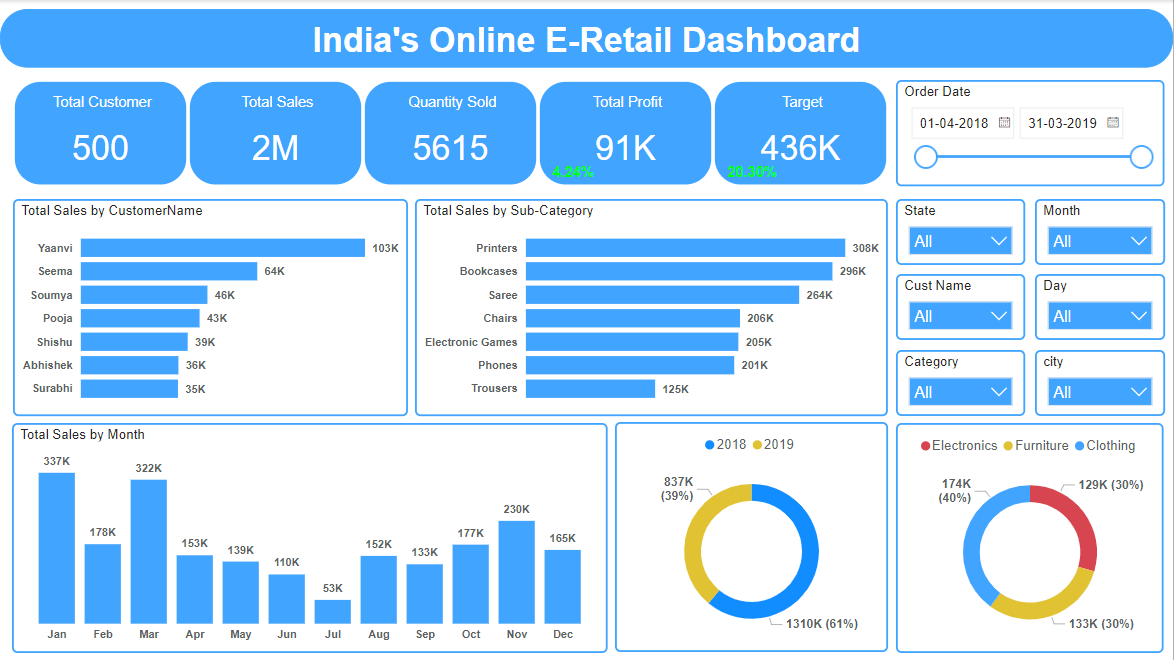

The dashboard page shown, as its layout file describes it:
{"tool":"powerbi","page":{"name":"Page 1","canvas":[1280,720],"ordinal":0},"visuals":[{"type":"card","title":"Total Customer","fields":{"Values":["CountNonNull(List of Orders.Order ID)"]},"box":[14.2,87.3,191,115.7],"z":0},{"type":"card","title":"Total Sales","fields":{"Values":["Measures Table.Total Sales"]},"box":[205.1,87.3,191,115.7],"z":1000},{"type":"card","title":"Total Profit","fields":{"Values":["Measures Table.Total Profit"]},"box":[587.1,87.3,191,115.7],"z":2000},{"type":"card","title":"Target","fields":{"Values":["Measures Table.Target"]},"box":[778,87.3,191,115.7],"z":3000},{"type":"card","title":"Quantity Sold","fields":{"Values":["Measures Table.Total Quantity Sold"]},"box":[396.1,87.3,191,115.7],"z":4000},{"type":"textbox","box":[0,9.8,1280,64.4],"z":5000},{"type":"card","fields":{"Values":["Measures Table.Taget %"]},"box":[778,172.4,85.1,33.8],"z":6000},{"type":"card","fields":{"Values":["Measures Table.Profit %"]},"box":[587.1,175.7,76.4,27.3],"z":7000},{"type":"slicer","title":"Day","fields":{"Values":["Calendar Table.Day"]},"box":[1129,299.4,141.9,72.3],"z":8000},{"type":"slicer","title":"Month","fields":{"Values":["Calendar Table.Month"]},"box":[1129,216.8,141.9,72.3],"z":8001},{"type":"slicer","title":"State","fields":{"Values":["List of Orders.State"]},"box":[978.1,216.8,140.6,72.3],"z":8002},{"type":"slicer","title":"city","fields":{"Values":["List of Orders.City"]},"box":[1129,381.9,141.9,72.3],"z":8003},{"type":"slicer","title":"Order Date","fields":{"Values":["Calendar Table.Order Date"]},"box":[978.1,87.7,292.9,116.1],"z":8004},{"type":"slicer","title":"Category","fields":{"Values":["Sales target.Category"]},"box":[978.1,381.9,140.6,72.3],"z":8005},{"type":"slicer","title":"Cust Name","fields":{"Values":["List of Orders.CustomerName"]},"box":[978.1,299.4,140.6,72.3],"z":8006},{"type":"donutChart","fields":{"Y":["Measures Table.Electronics","Measures Table.Furniture","Measures Table.Clothing"]},"box":[977.7,461.6,292.4,251],"z":8007},{"type":"barChart","fields":{"Category":["Order Details.Sub-Category"],"Y":["Measures Table.Total Sales"]},"box":[452.9,217.2,516.1,236.8],"z":8008},{"type":"barChart","fields":{"Category":["List of Orders.CustomerName"],"Y":["Measures Table.Total Sales"]},"box":[14.2,217.2,431,236.8],"z":8009},{"type":"columnChart","fields":{"Category":["Calendar Table.Month"],"Y":["Measures Table.Total Sales"]},"box":[13.1,461.6,650.4,251],"z":8010},{"type":"donutChart","fields":{"Y":["Measures Table.Total Sales"],"Category":["Calendar Table.Year"]},"box":[671.1,460.5,297.9,251],"z":8011}]}

Visuals, with their boxes in screenshot pixels (x1, y1, x2, y2), scaled from the page's 1280x720 canvas onto the 1174x660 screenshot:
"Total Customer" card: 13/80/188/186
"Total Sales" card: 188/80/363/186
"Total Profit" card: 538/80/714/186
"Target" card: 714/80/889/186
"Quantity Sold" card: 363/80/538/186
textbox: 0/9/1173/68
card - Measures Table.Taget %: 714/158/792/189
card - Measures Table.Profit %: 538/161/609/186
"Day" slicer: 1036/274/1166/341
"Month" slicer: 1036/199/1166/265
"State" slicer: 897/199/1026/265
"city" slicer: 1036/350/1166/416
"Order Date" slicer: 897/80/1166/187
"Category" slicer: 897/350/1026/416
"Cust Name" slicer: 897/274/1026/341
donutChart - Measures Table.Electronics x Measures Table.Furniture: 897/423/1165/653
barChart - Order Details.Sub-Category x Measures Table.Total Sales: 415/199/889/416
barChart - List of Orders.CustomerName x Measures Table.Total Sales: 13/199/408/416
columnChart - Calendar Table.Month x Measures Table.Total Sales: 12/423/609/653
donutChart - Measures Table.Total Sales x Calendar Table.Year: 616/422/889/652
